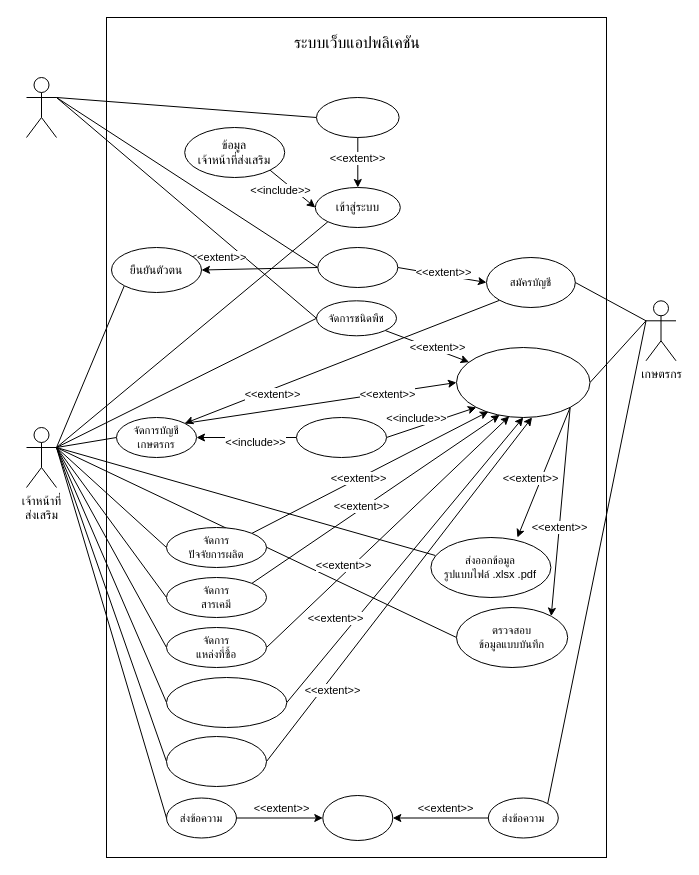
Image size: 699x875. Some labels were removed from this diagram. Here are the shapes that lost their labels. From the top down, the centre of each, then its label:
At point (41, 107): "ผู้ดูแลระบบ".
At point (357, 117): "จัดการบัญชี เจ้าหน้าที่".
At point (357, 267): "จัดการศูนย์ ในโครงการ".
At point (523, 382): "จัดการแบบบันทึก การปลูกพืช".
At point (341, 437): "ข้อมูลเกษตรกร".
At point (226, 702): "ให้คำแนะนำ/ ผลตรวจสอบแบบบันทึก".
At point (216, 761): "สั่งเก็บเกี่ยวผลผลิต".
At point (357, 817): "ห้องสนทนา".
